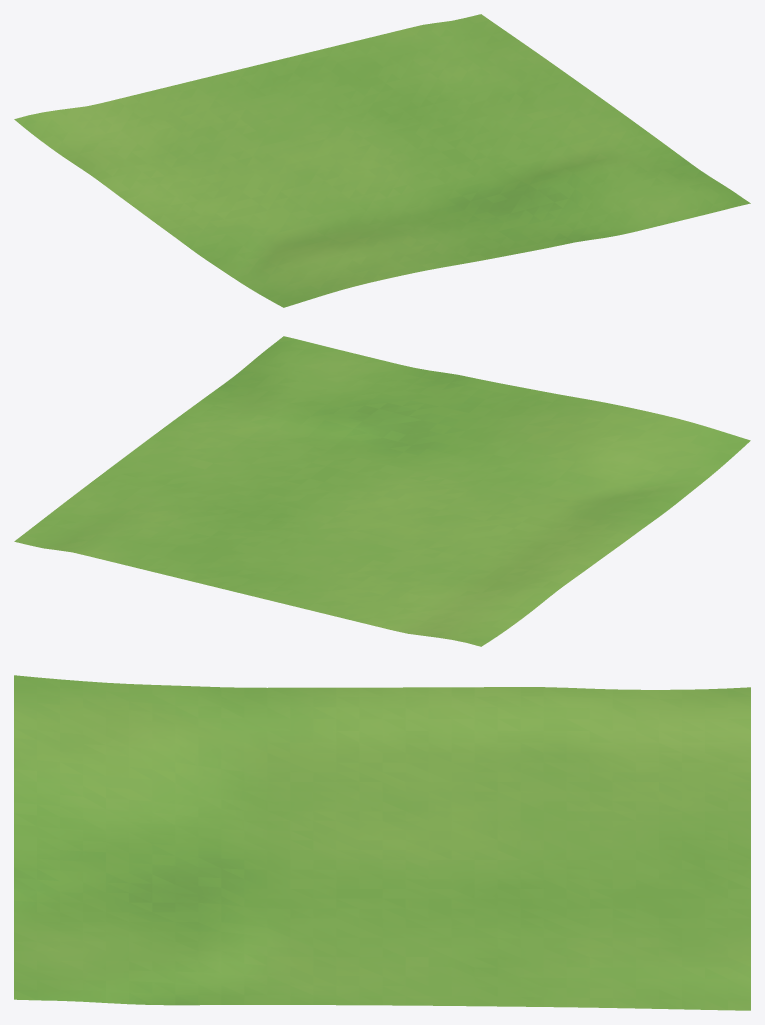
File: terrain_r2_c1.glb
3 renders of one model, top to bottom at view 1: azimuth 30°, elevation 25°; view 2: azimuth 150°, elevation 25°; view 3: azimuth 270°, elevation 25°, orthographic. The views are drawn at different scales.
Visible parts, largest first — view 1: terrain_r2_c1; view 2: terrain_r2_c1; view 3: terrain_r2_c1.
Boxes of the visible parts, x1,y1,x2,y2 form: terrain_r2_c1: (14, 14, 750, 307); terrain_r2_c1: (14, 336, 750, 646); terrain_r2_c1: (14, 675, 750, 1010).
Bounding box in the file's own units: 128 × 5.69 × 128.
1 material, 1 textured.
